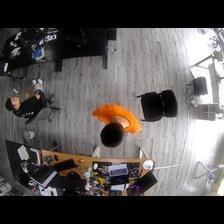normal: (88, 97, 141, 147), (7, 77, 53, 124)
